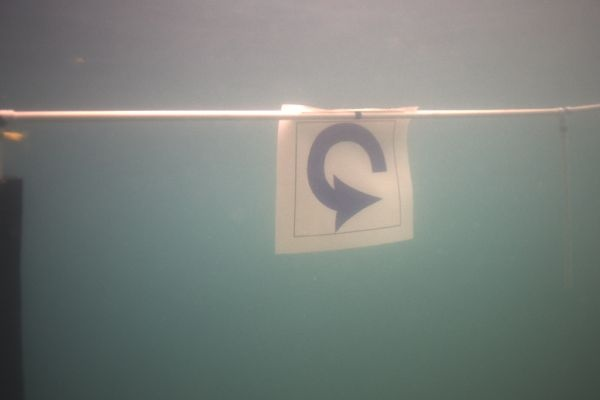gate: (0, 104, 600, 400)
gate_bleue: (274, 106, 414, 252)
